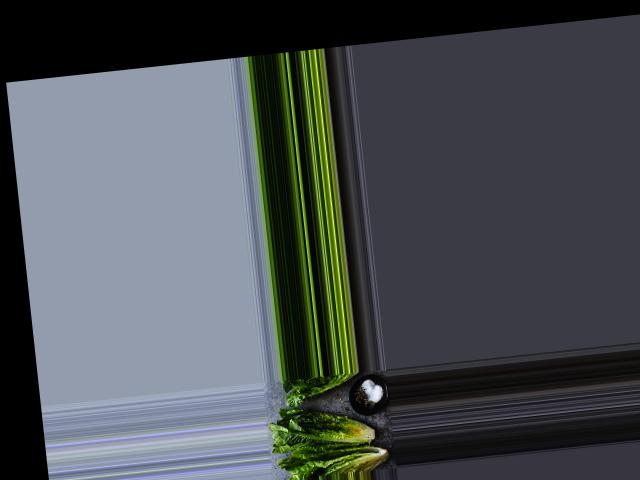lettuce: (285, 439, 396, 478)
